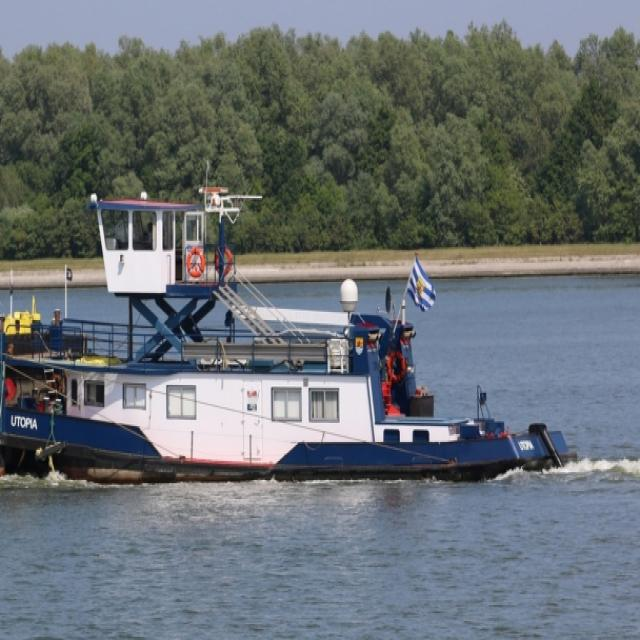tugboat: (1, 183, 590, 493)
